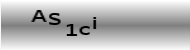1: (65, 23, 78, 37)
A: (30, 9, 47, 23)
S: (47, 12, 61, 25)
c: (78, 24, 91, 36)
i: (92, 16, 97, 30)
